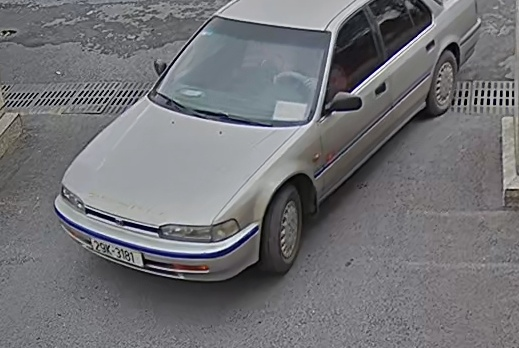vehicle plate: (89, 232, 148, 276)
